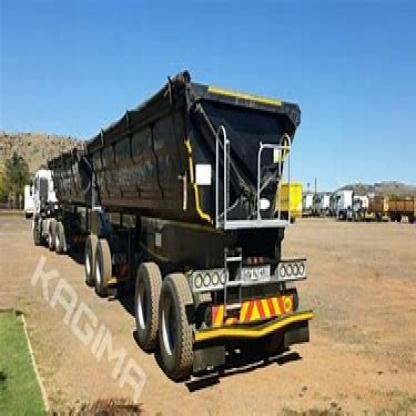dump_truck: (8, 63, 318, 381)
